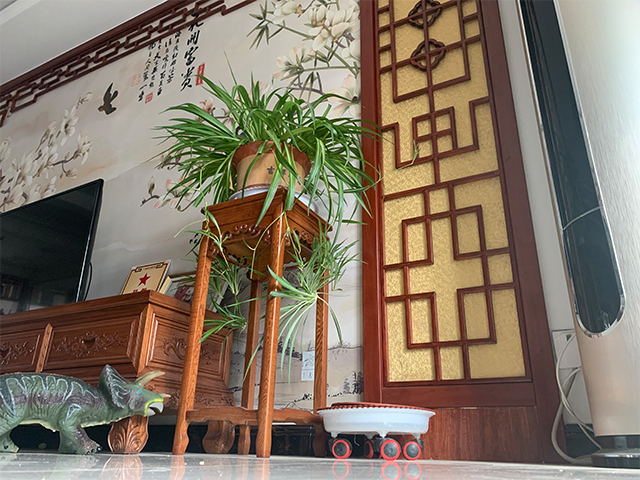cabinet: (1, 289, 238, 456)
wire: (550, 332, 603, 466)
